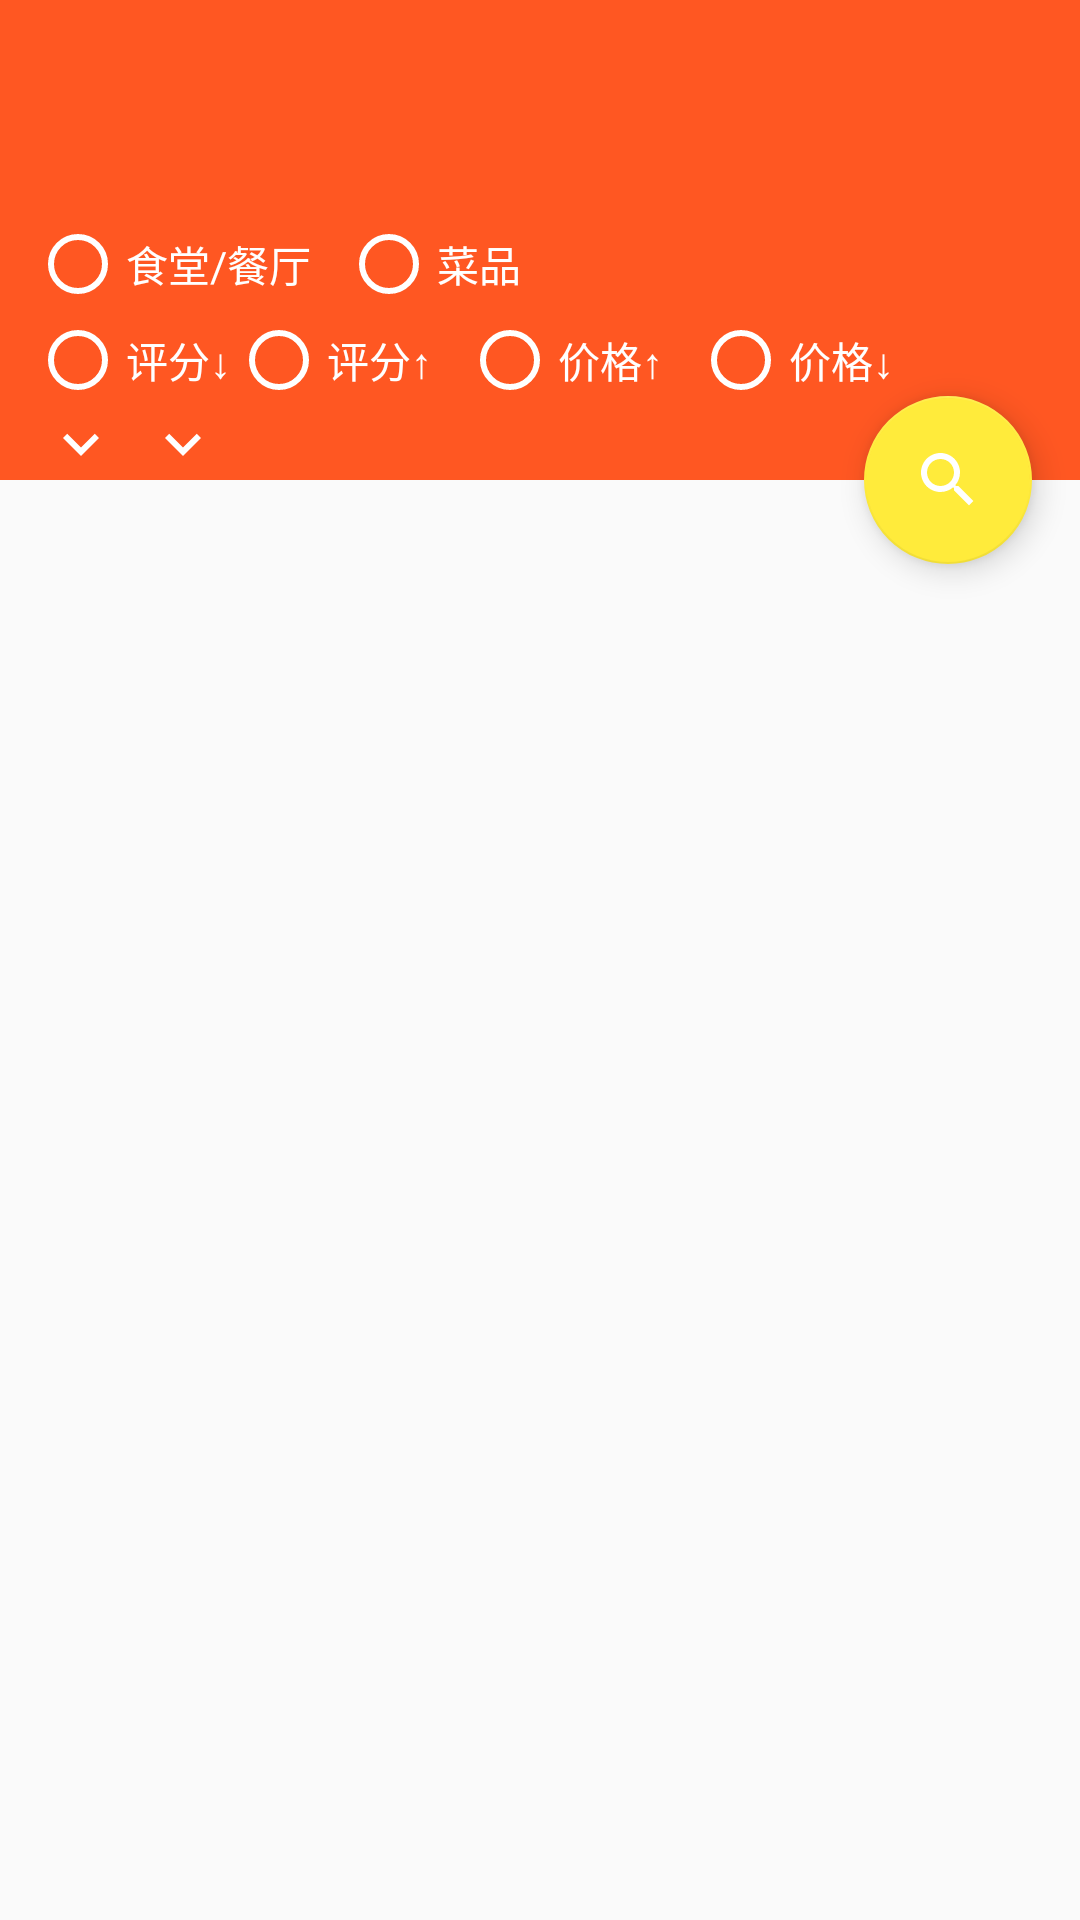

Icon click points for this 1080x1920 phone screenshot, format (x=x, y=y):
search: (x=948, y=480)
